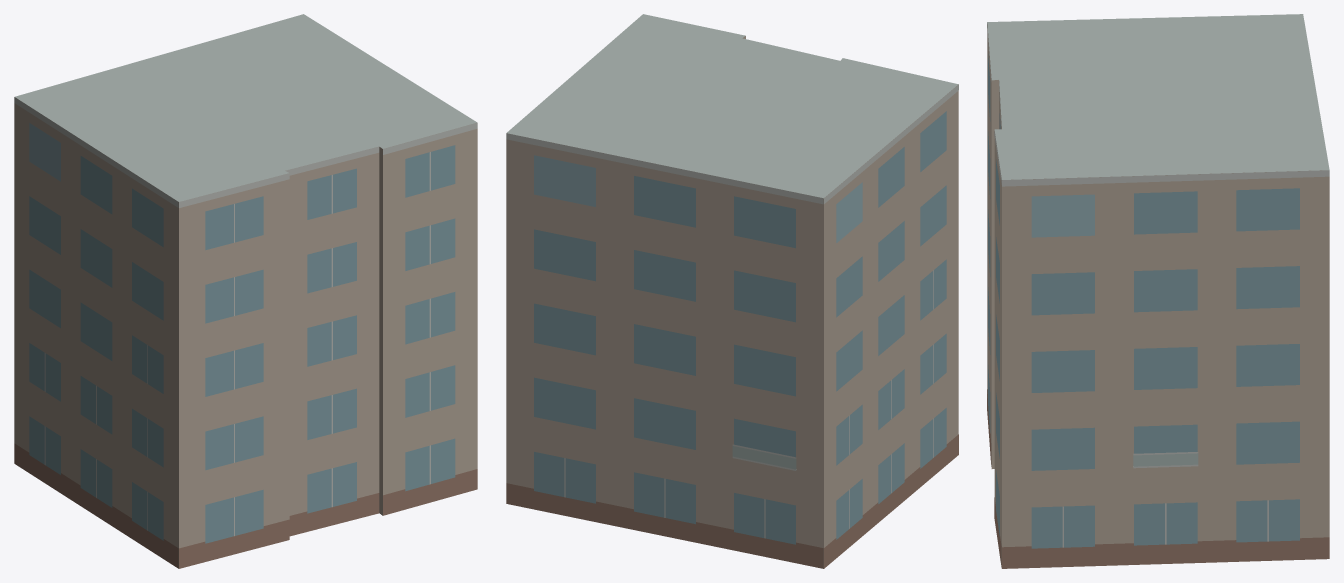
File: survey-upis-32537207.glb
3 renders of one model, left to right at view 1: azimuth 30°, elevation 25°; view 2: azimuth 150°, elevation 25°; view 3: azimuth 270°, elevation 25°, orthographic. The views are drawn at different scales.
Parts seen in each view (by area): view 1: survey-upis-32537207.tmp; view 2: survey-upis-32537207.tmp; view 3: survey-upis-32537207.tmp.
Part boxes in pixels (box(x1,y1,x2,y2)): survey-upis-32537207.tmp: box(14, 14, 477, 568); survey-upis-32537207.tmp: box(506, 14, 958, 568); survey-upis-32537207.tmp: box(987, 14, 1329, 568).
Size of the model in its own units: 13.34 by 14.55 by 11.62.
